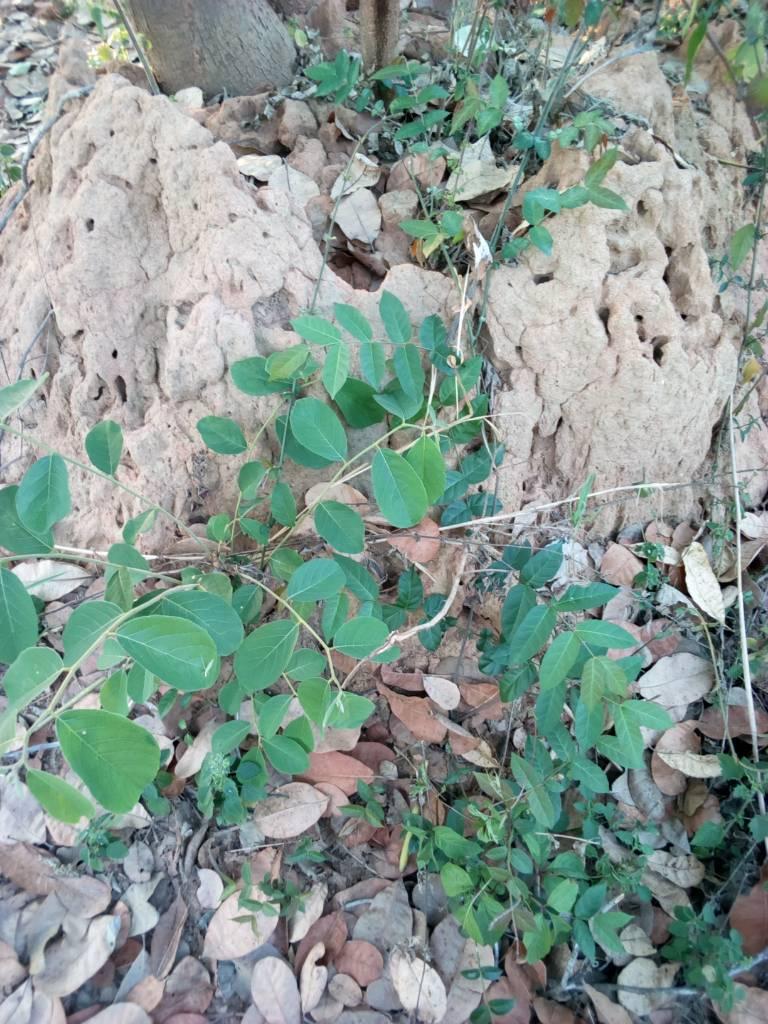Termites: (35, 88, 252, 503), (538, 250, 718, 472)
